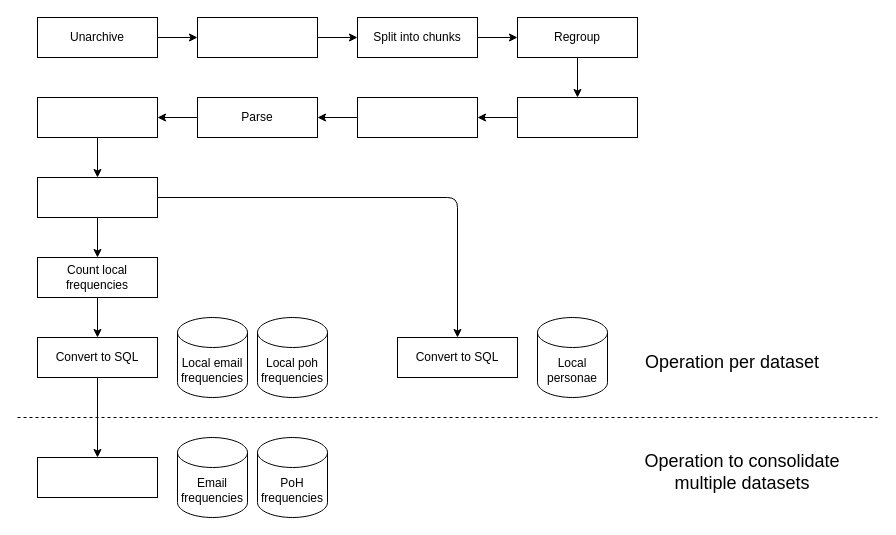
Image size: 896x535. Some labels were removed from this diagram. The box of each missing label's shape, as (x1, y1, x2, y2) in pixels:
Cleanup: (36, 96, 158, 138)
Convert to parquet: (36, 176, 158, 218)
Detect schema: (356, 96, 478, 138)
Flatten: (196, 16, 318, 58)
Merge frequencies: (36, 456, 158, 498)
Rearchive: (516, 96, 638, 138)
